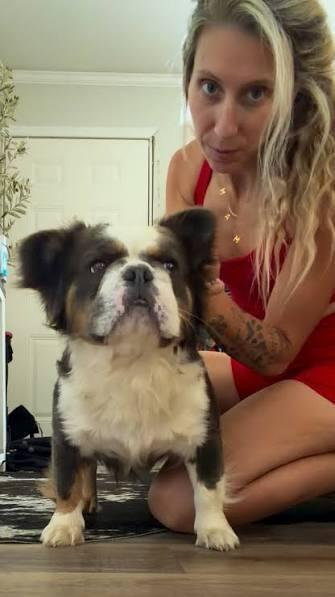adult_dog: (18, 208, 243, 552)
non-dog: (147, 0, 335, 535)
